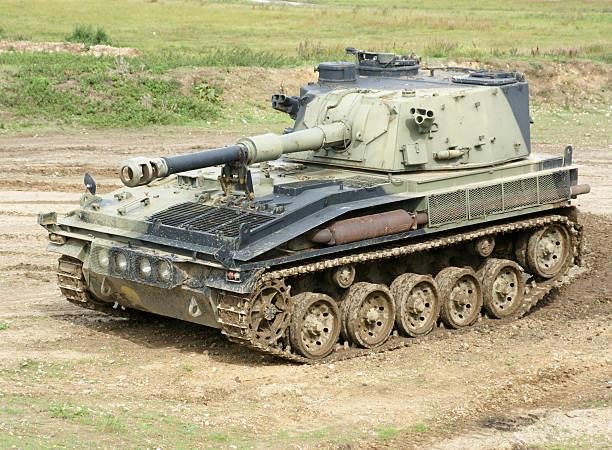tank: (42, 52, 589, 367)
